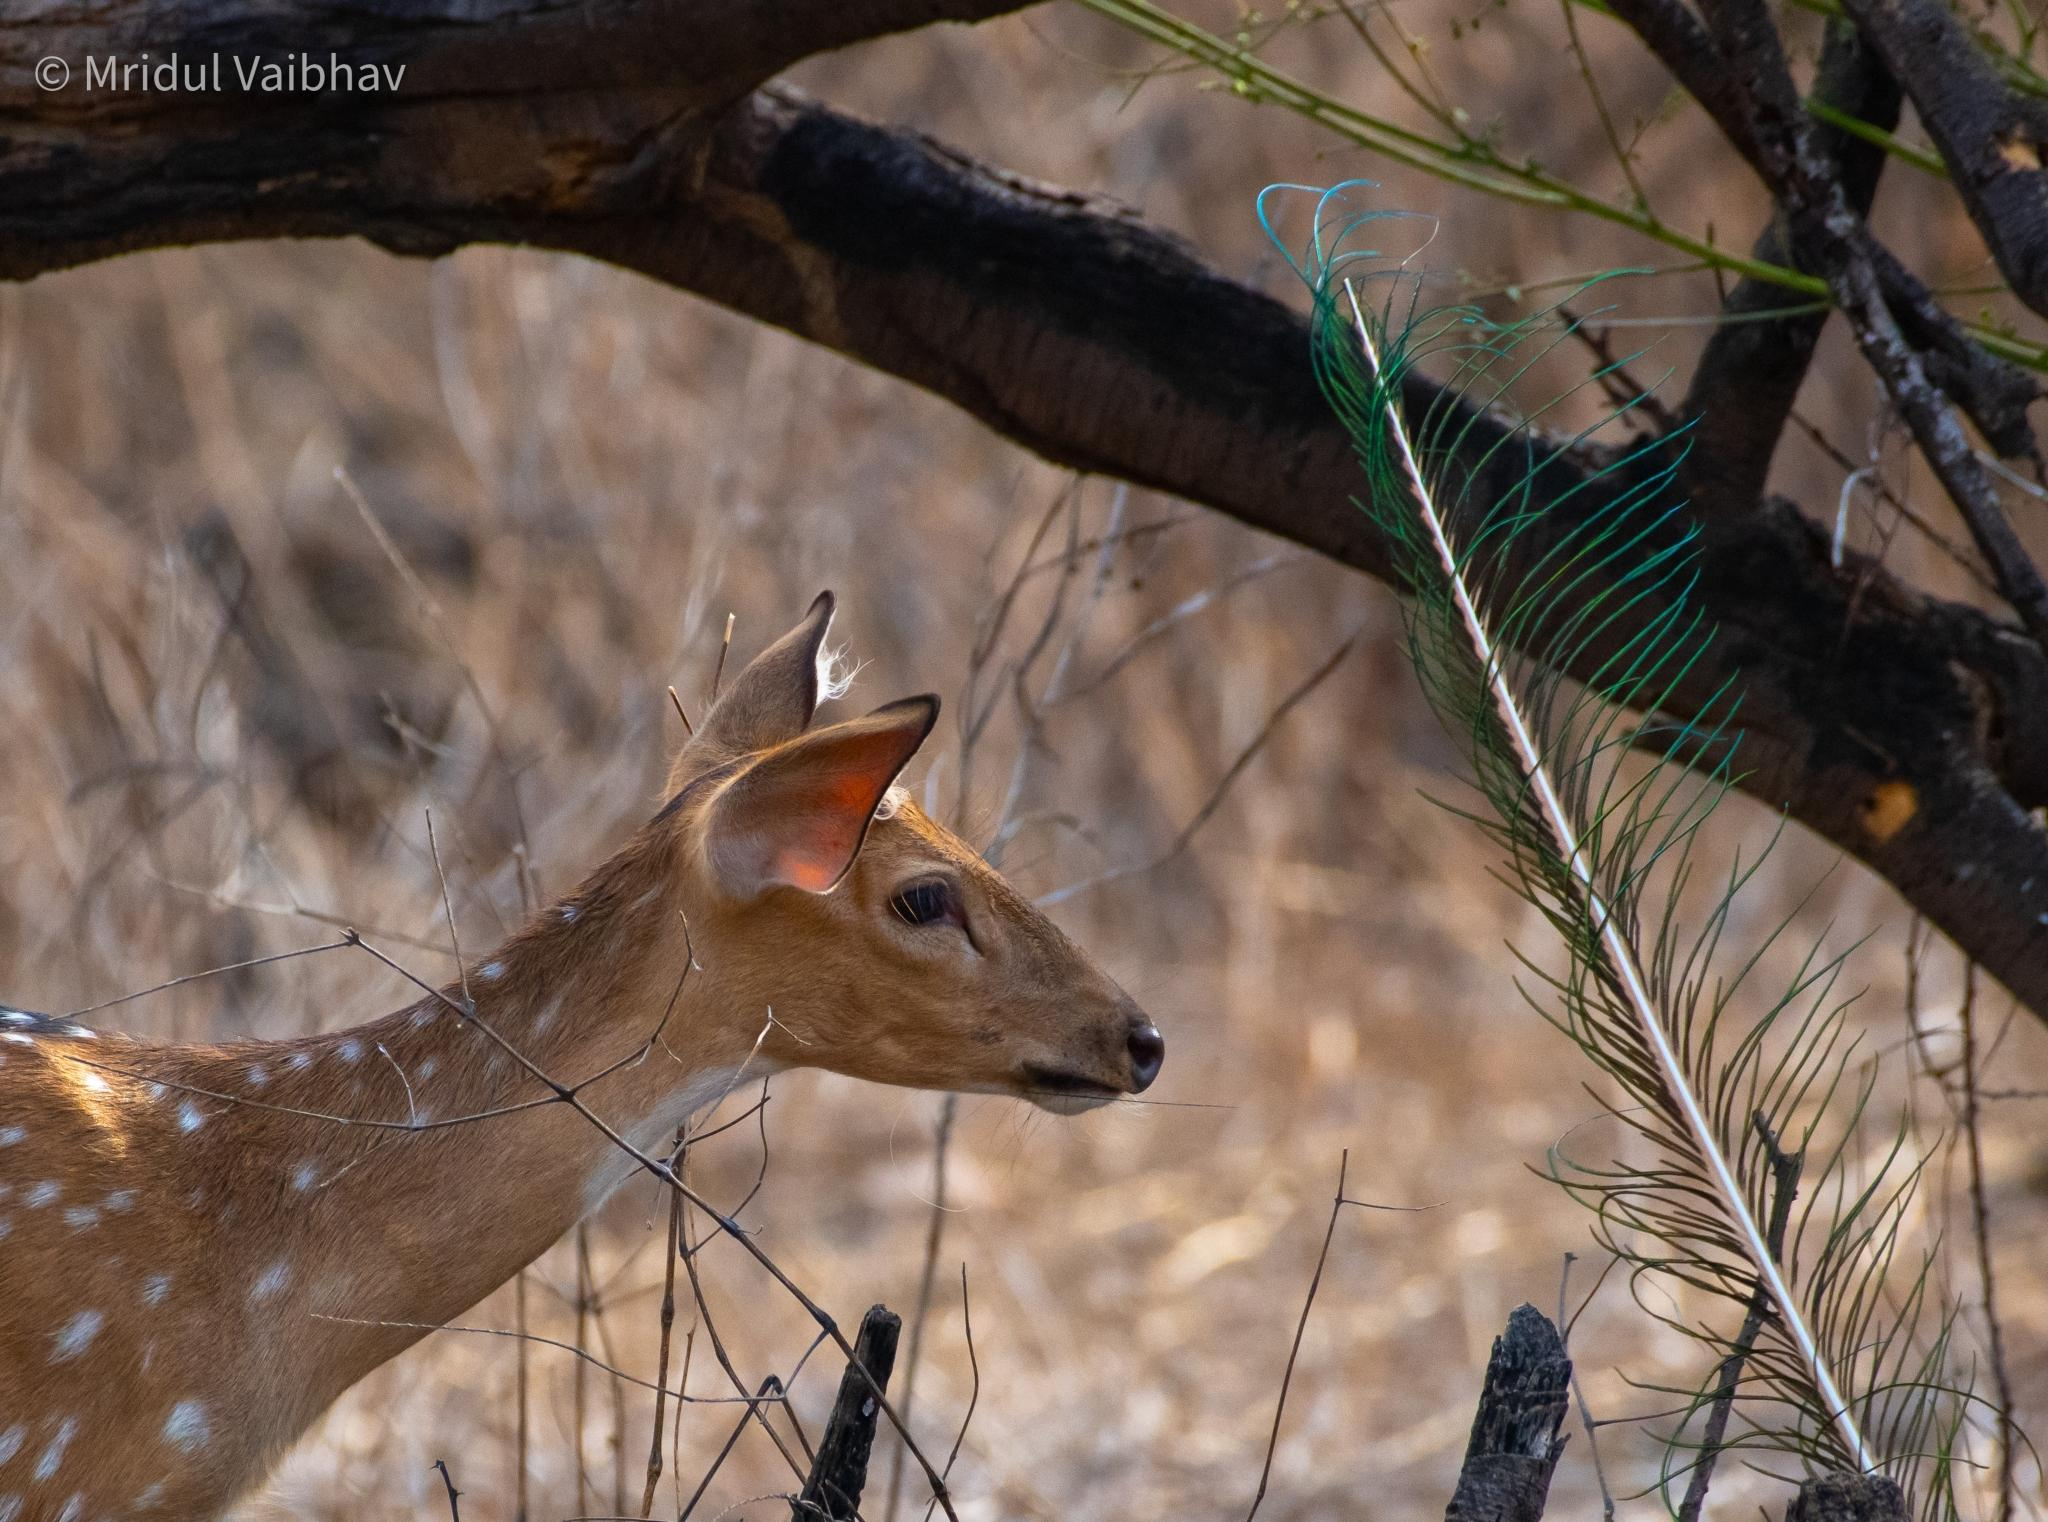Deer: (0, 592, 1165, 1520)
